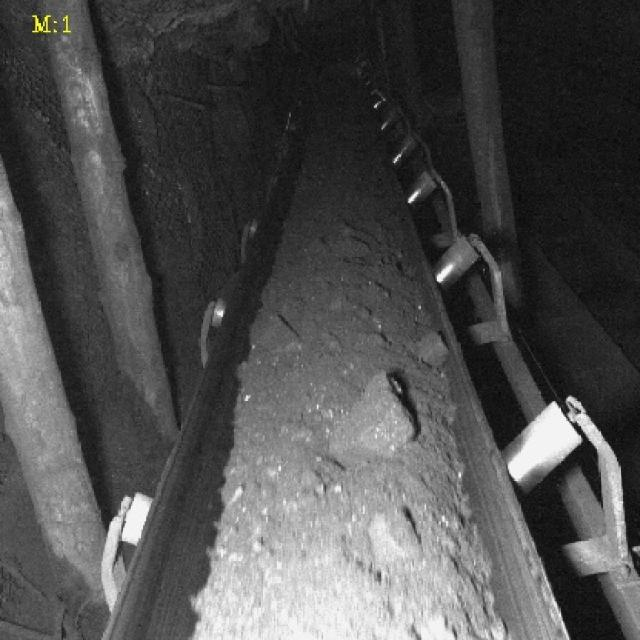large_sized_coal: (352, 374, 417, 449), (365, 511, 417, 562), (411, 330, 446, 364)
